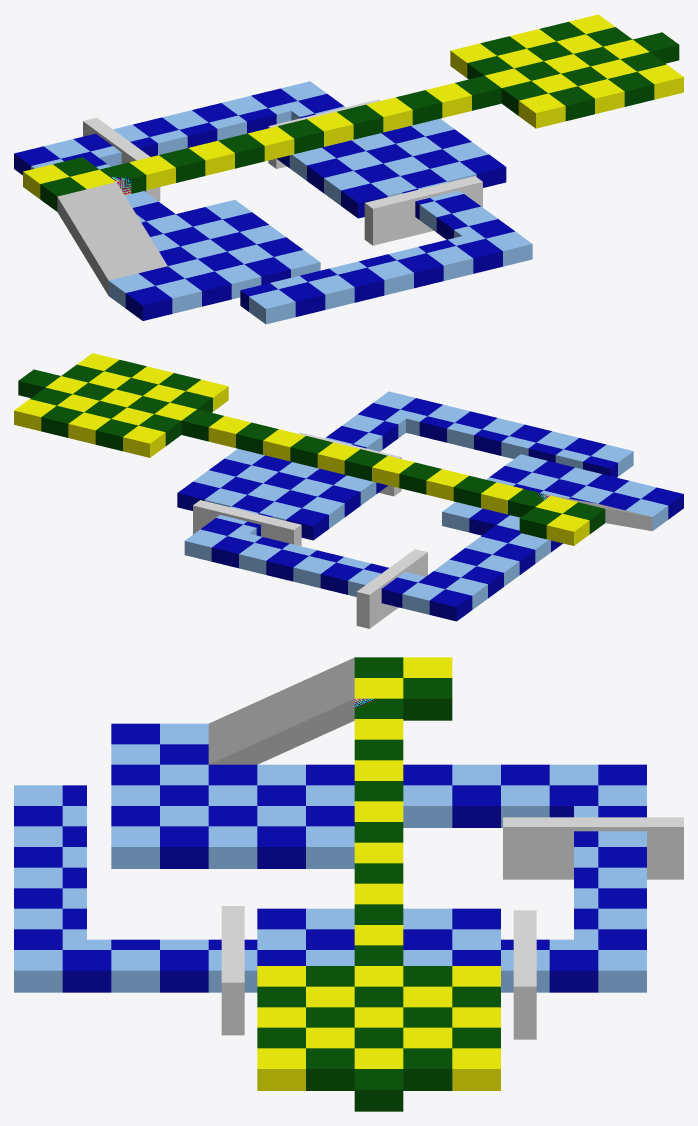
Rendered from meshtest.glb.
The picture shows the model from 3 angles, top to bottom: view 1: azimuth 30°, elevation 25°; view 2: azimuth 150°, elevation 25°; view 3: azimuth 270°, elevation 25°; orthographic projection. The views are drawn at different scales.
Parts seen in each view (by area): view 1: Untitled, Cube.002, Cube; view 2: Untitled, Cube, Cube.001, Cube.002; view 3: Untitled, Cube, Cube.001, Cube.002.
Boxes of the visible parts, x1,y1,x2,y2 form: Untitled: [14, 14, 683, 324]; Cube.002: [364, 176, 482, 245]; Cube: [83, 117, 160, 201]; Untitled: [14, 353, 683, 621]; Cube: [356, 549, 427, 628]; Cube.001: [193, 500, 301, 546]; Cube.002: [298, 432, 401, 496]; Untitled: [14, 657, 646, 1111]; Cube: [503, 817, 683, 879]; Cube.001: [513, 910, 536, 1039]; Cube.002: [221, 906, 244, 1035].
Bounding box in the file's own units: 4.2 × 0.5194 × 2.75.
1 material, 1 textured.
